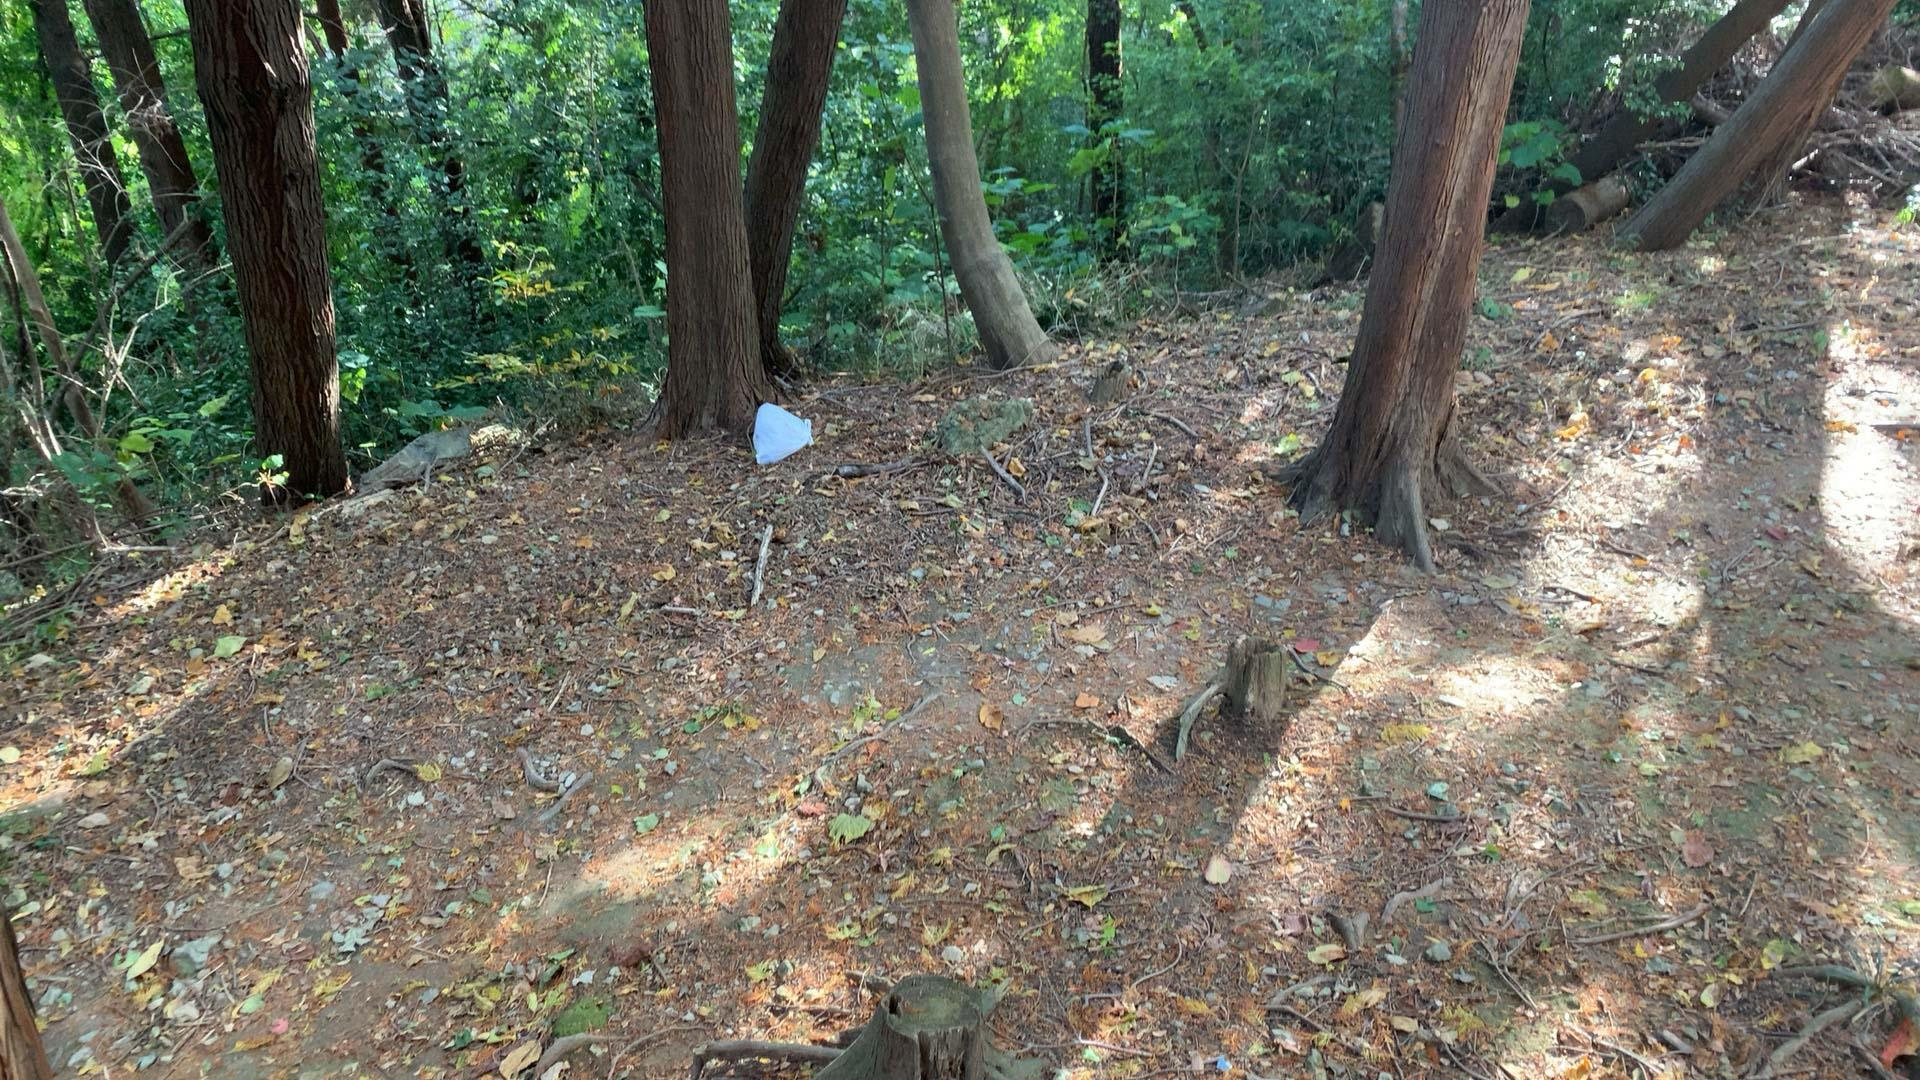white_bag: (744, 400, 818, 464)
